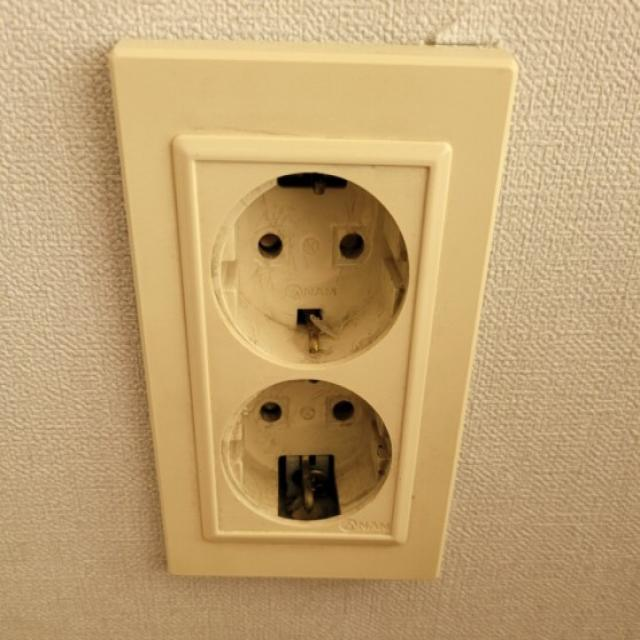typeb: (61, 12, 538, 614)
